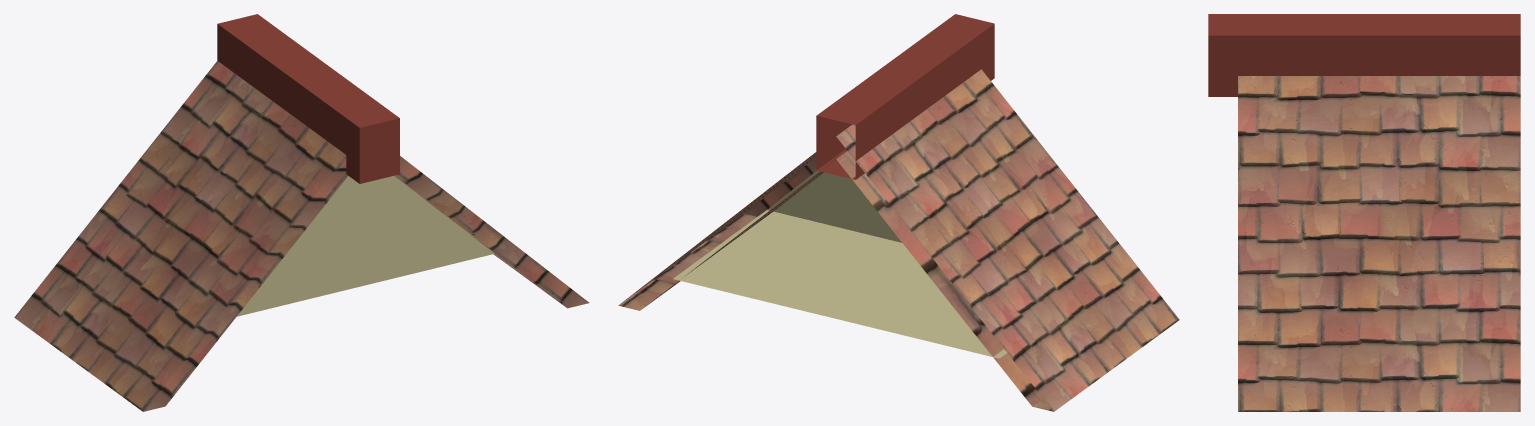
File: roof_6x3x4_head.fbx
3 renders of one model, left to right at view 1: azimuth 30°, elevation 25°; view 2: azimuth 150°, elevation 25°; view 3: azimuth 270°, elevation 25°, orthographic. The views are drawn at different scales.
Parts seen in each view (by area): view 1: roof_6x3x4_head; view 2: roof_6x3x4_head; view 3: roof_6x3x4_head.
Boxes of the visible parts, x1,y1,x2,y2 form: roof_6x3x4_head: (14,14,589,411); roof_6x3x4_head: (618,14,1179,411); roof_6x3x4_head: (1208,14,1520,411).
Bounding box in the file's own units: 800 × 418 × 442.
